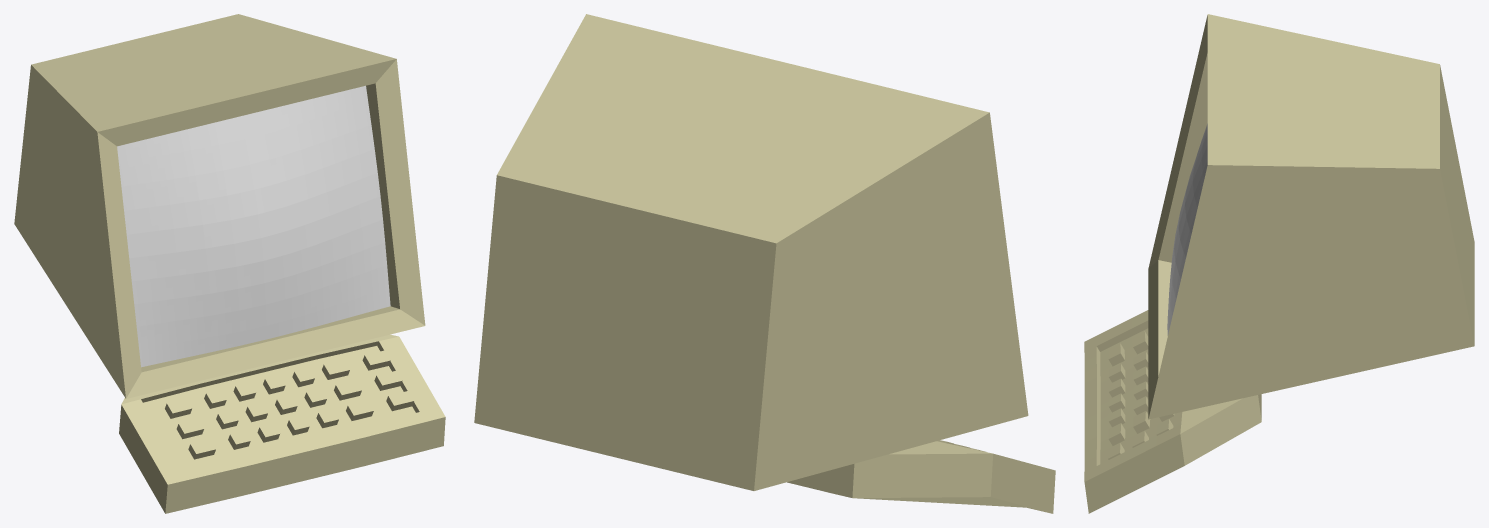
File: terminal.glb
3 renders of one model, left to right at view 1: azimuth 30°, elevation 25°; view 2: azimuth 150°, elevation 25°; view 3: azimuth 270°, elevation 25°, orthographic. The views are drawn at different scales.
Parts seen in each view (by area): view 1: Cube, Plane; view 2: Cube; view 3: Cube, Plane.
Boxes of the visible parts, box(x1,y1,x2,y2) form: Cube: box(14, 14, 445, 513); Plane: box(117, 85, 390, 367); Cube: box(474, 14, 1055, 513); Cube: box(1084, 14, 1474, 513); Plane: box(1167, 123, 1207, 335).
Bounding box in the file's own units: 1.87 × 2.05 × 2.04.
